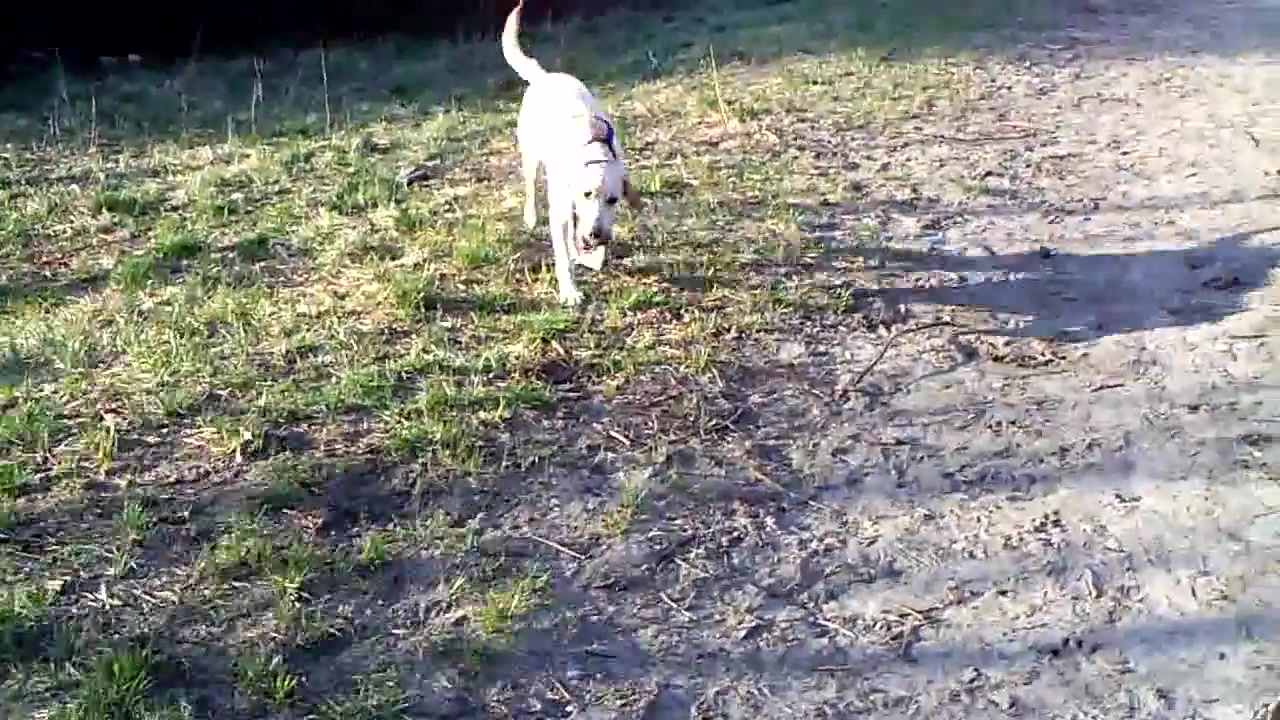dog: (501, 4, 646, 312)
